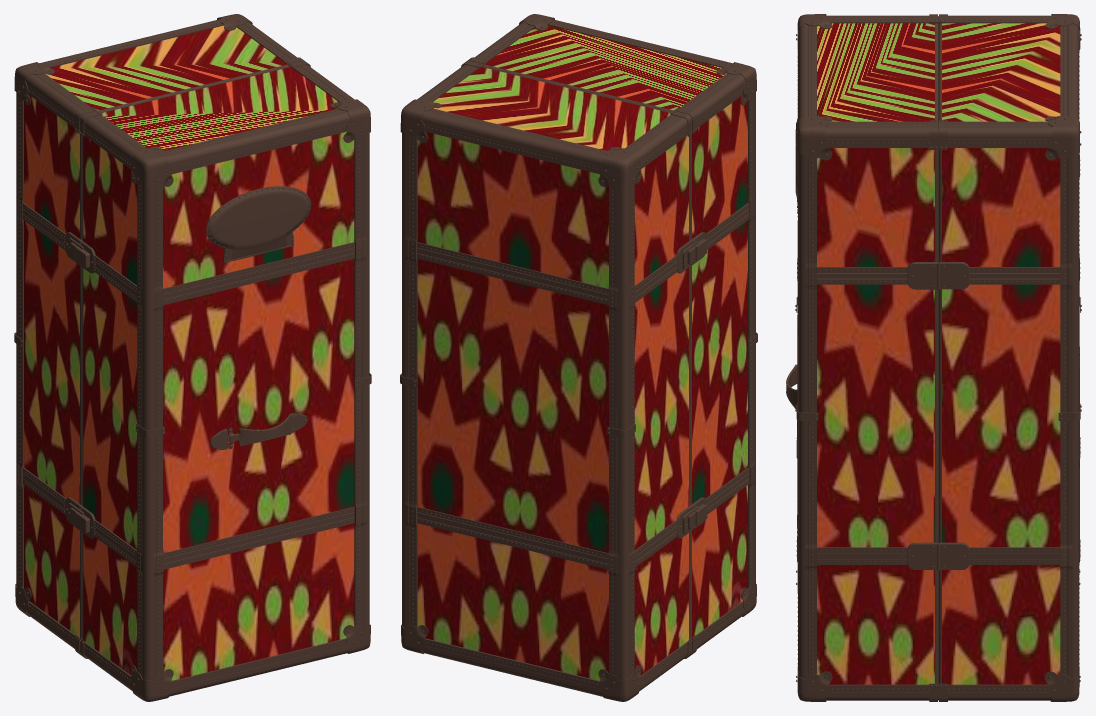
File: baxter_cofano_obj 1.fbx
The picture shows the model from 3 angles, left to right: view 1: azimuth 30°, elevation 25°; view 2: azimuth 150°, elevation 25°; view 3: azimuth 270°, elevation 25°; orthographic projection. The views are drawn at different scales.
Parts seen in each view (by area): view 1: baxter_cofano_1, baxter_cofano; view 2: baxter_cofano_1, baxter_cofano; view 3: baxter_cofano_1, baxter_cofano.
Part boxes in pixels (left/top/right/bottom): baxter_cofano_1: left=24, top=25, right=354, bottom=680; baxter_cofano: left=14, top=14, right=371, bottom=701; baxter_cofano_1: left=417, top=25, right=747, bottom=680; baxter_cofano: left=400, top=14, right=757, bottom=701; baxter_cofano_1: left=817, top=23, right=1060, bottom=684; baxter_cofano: left=786, top=14, right=1081, bottom=701.
Bounding box in the file's own units: 67.79 × 151 × 70.23.
Materials: 2 (1 with a texture image).
